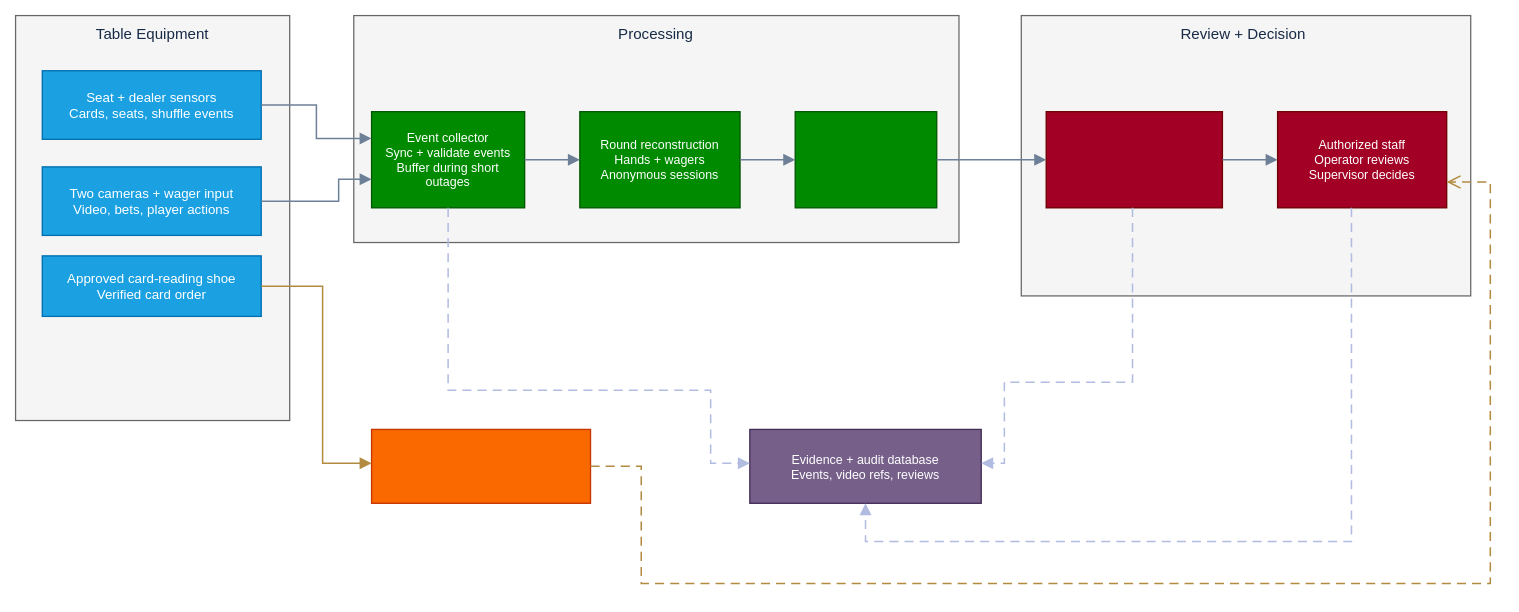
The diagram is 1519 pixels wide and 612 high, and some of its shapes have lost their labels. The shapes that lost their labels are listed below. From the top down, each one's centre as x and y in pixels, then its label:
(x=865, y=159): Detection engine Public card count Strategy + risk analysis
(x=1134, y=159): Alert dashboard Evidence + confidence Session timeline
(x=481, y=466): Restricted shoe-order store Sequence checks only
